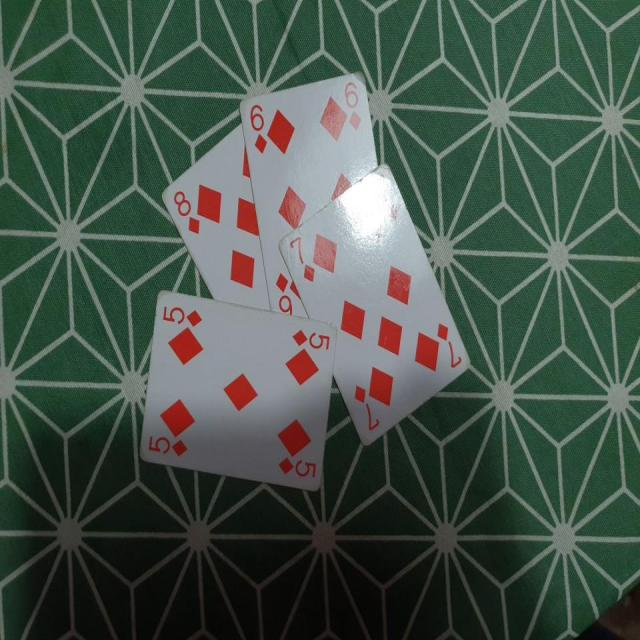5 Diamonds: (136, 288, 336, 493)
6 Diamonds: (238, 69, 379, 314)
7 Diamonds: (277, 162, 471, 447)
8 Diamonds: (162, 125, 271, 311)
